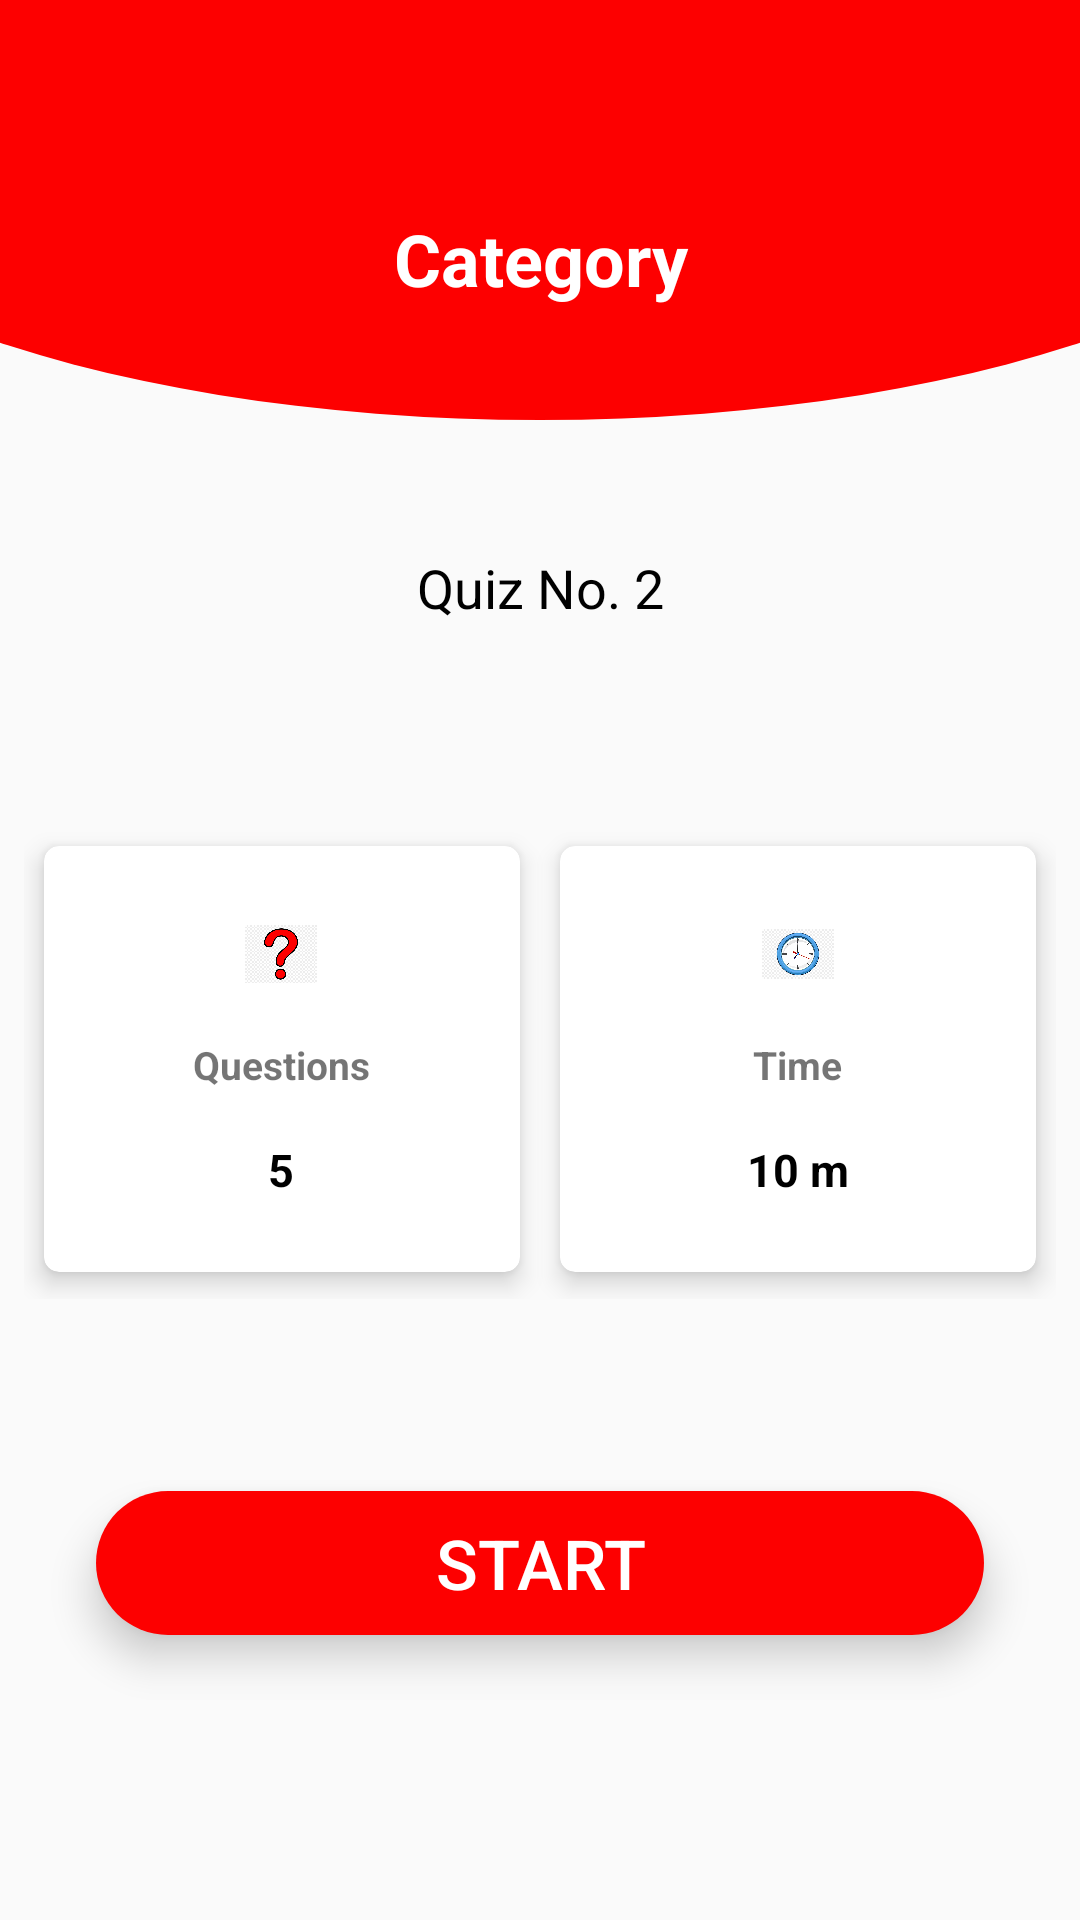

Icon bounding boxes for this 1080x1920 phone screenshot, format (x1, y1, x2, y2):
clock: (777, 933, 819, 975)
